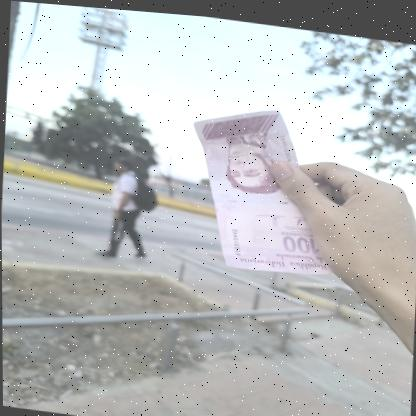one_hundred-front-vef: (184, 94, 341, 276)
